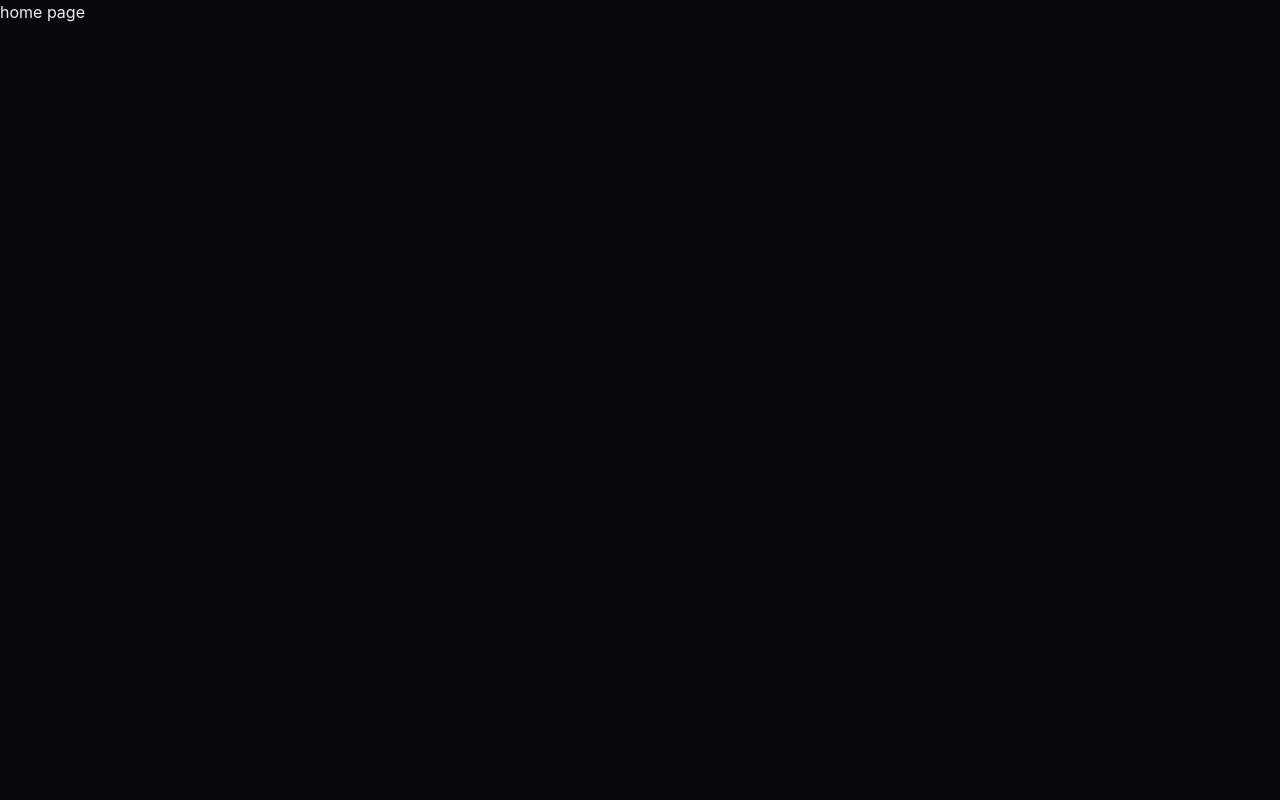
CommandPalette › gives the visible close control a 36px target and drops the backdrop from the tab order
Press k
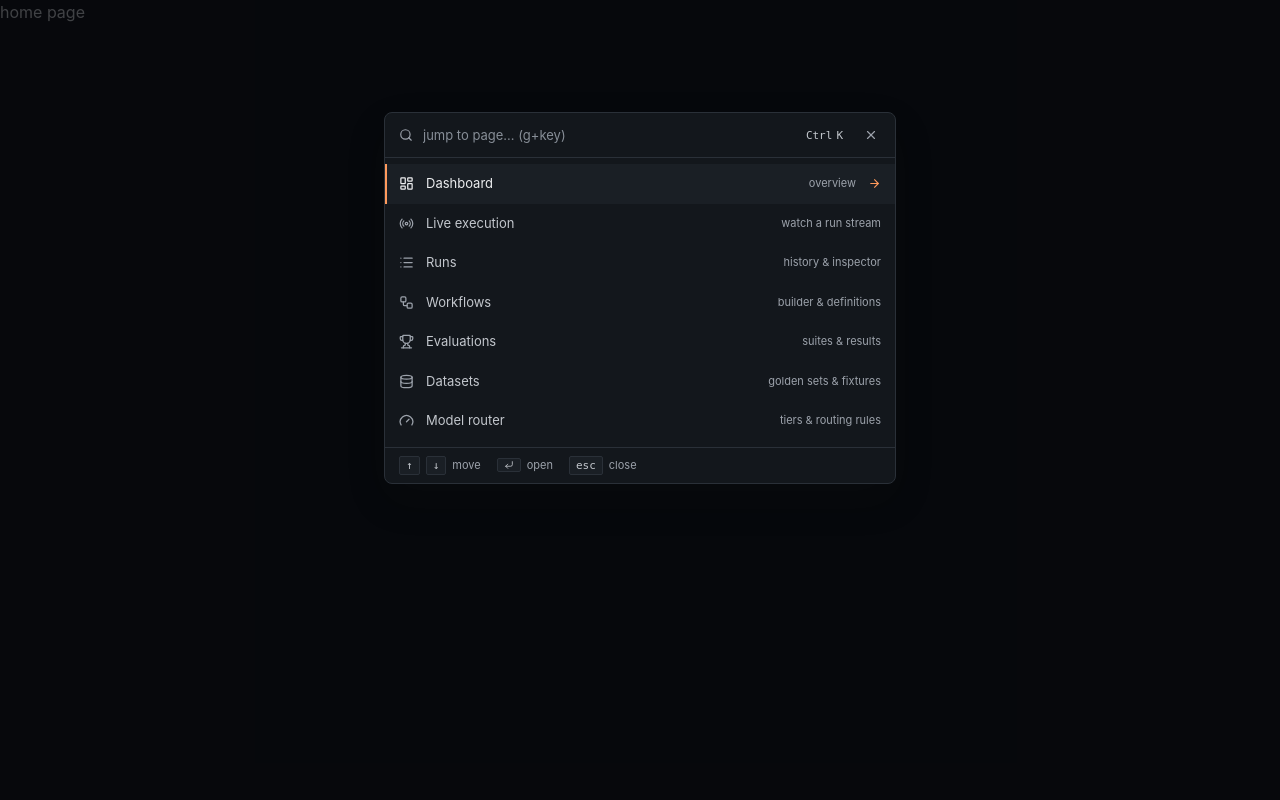
expect the 1st button named "Close command palette" is shown: met
Click the button named "Close command palette" in the row of "Ctrl" at (871, 135), box [853,117,889,153]
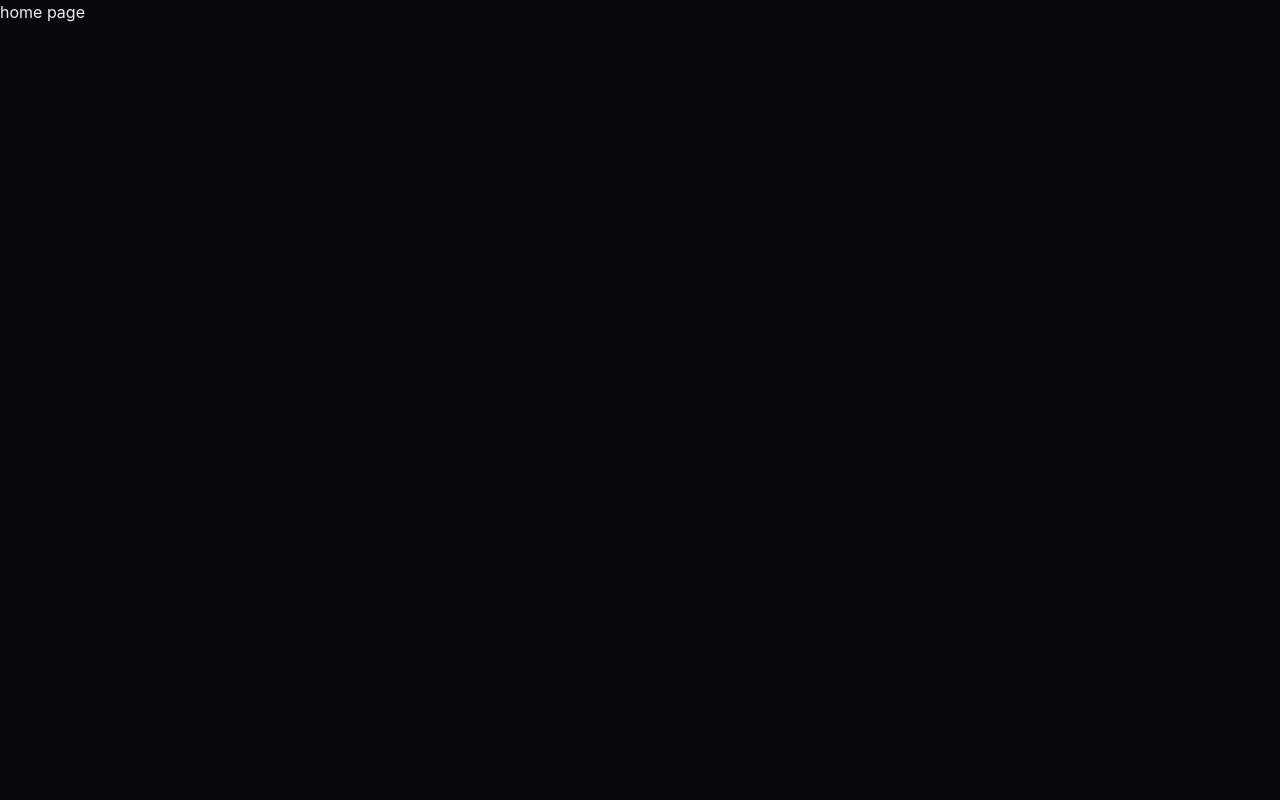
expect the dialog is gone: met
